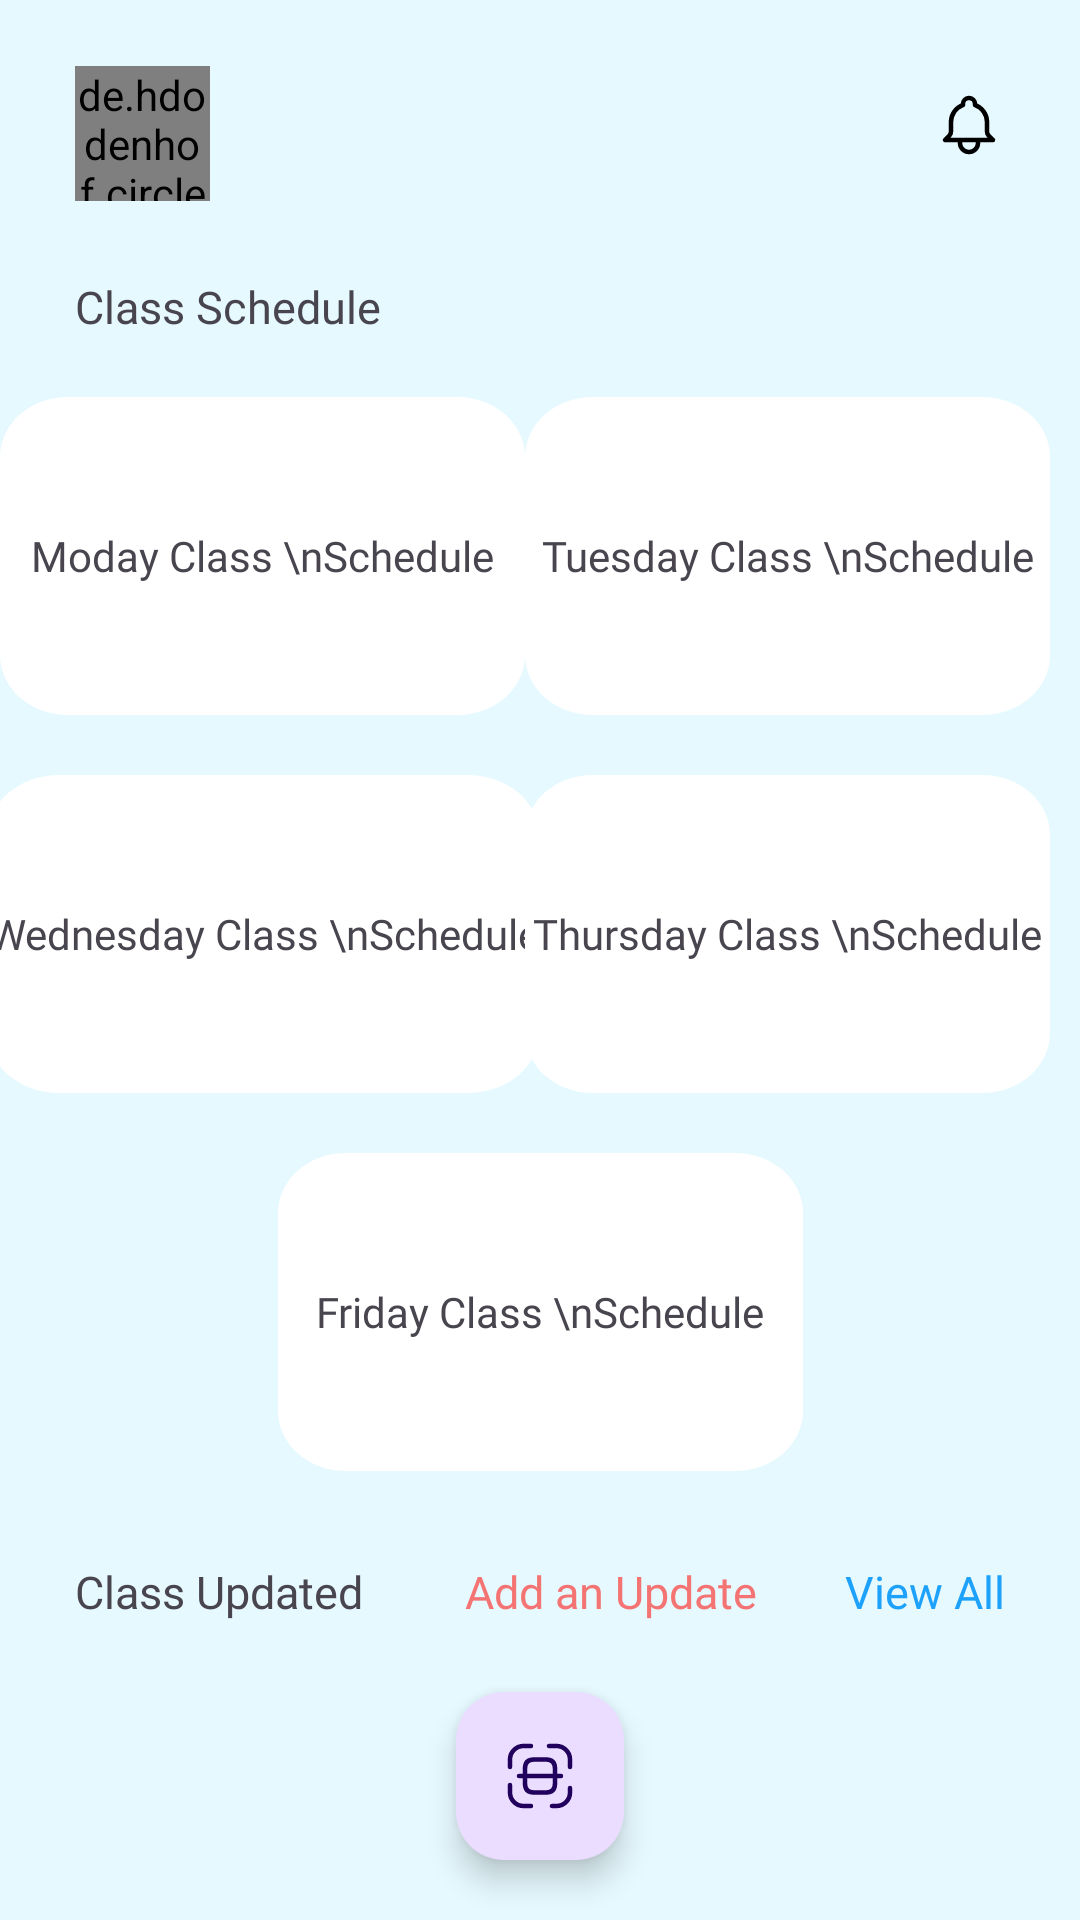

Where icons sit on this 1080 x 1920 app screen, as (x1, y1, x2, y2):
bell: (942, 95, 996, 155)
scan: (456, 1692, 624, 1860)
